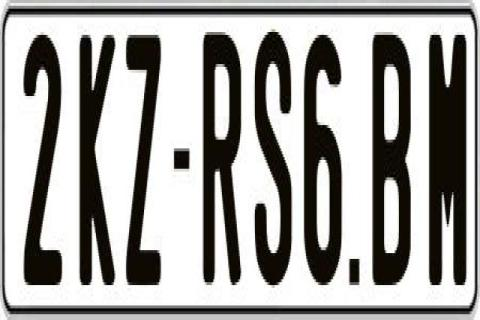0: (305, 32, 345, 291), (24, 32, 64, 285)
B: (371, 29, 412, 282)
K: (80, 32, 121, 285)
M: (429, 32, 463, 296)
R: (202, 24, 244, 282)
S: (255, 32, 295, 296)
Z: (124, 26, 162, 288)
